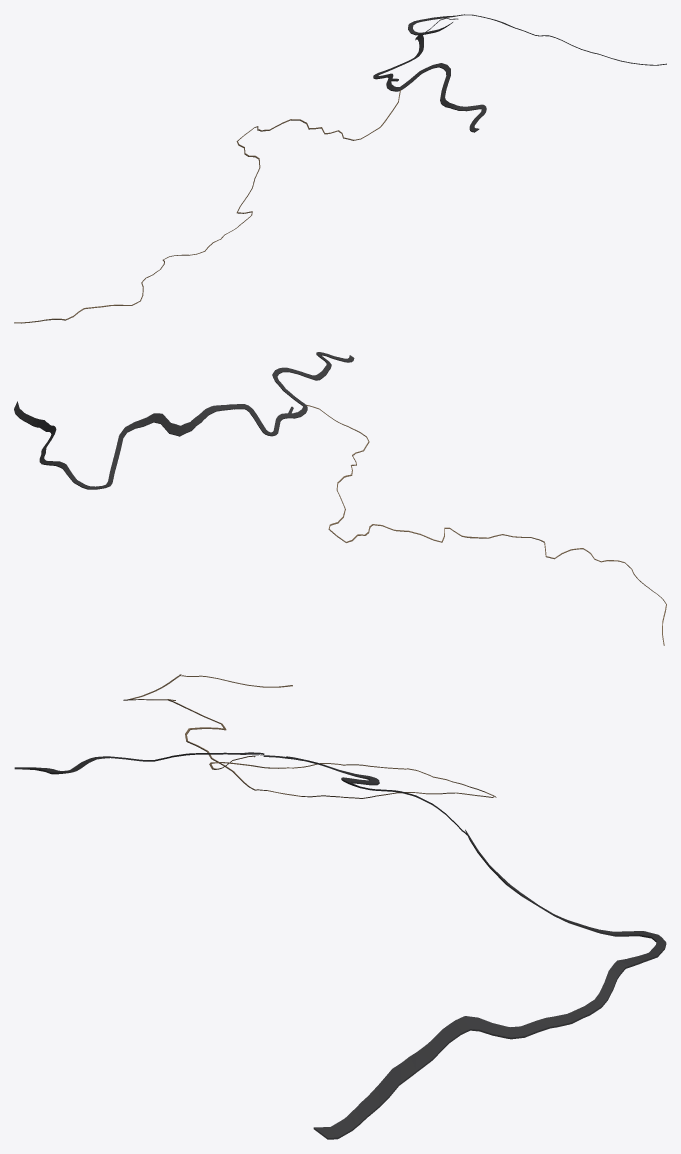
3 views of the same model, one above another, from view 1: azimuth 30°, elevation 25°; view 2: azimuth 150°, elevation 25°; view 3: azimuth 270°, elevation 25° (orthographic). The views are drawn at different scales.
Bounding box in the file's own units: 970 × 238 × 427.
